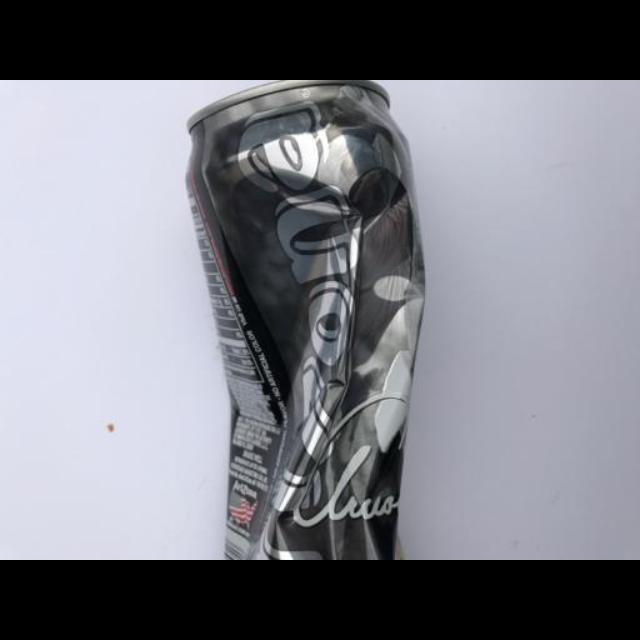lata: (185, 80, 428, 560)
